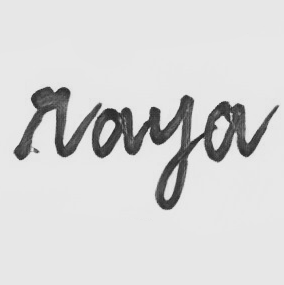a: (201, 95, 250, 165), (88, 102, 135, 163)
r: (11, 80, 74, 163)
y: (145, 91, 196, 213)
